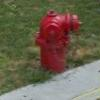Hydrant: (29, 9, 84, 74)
